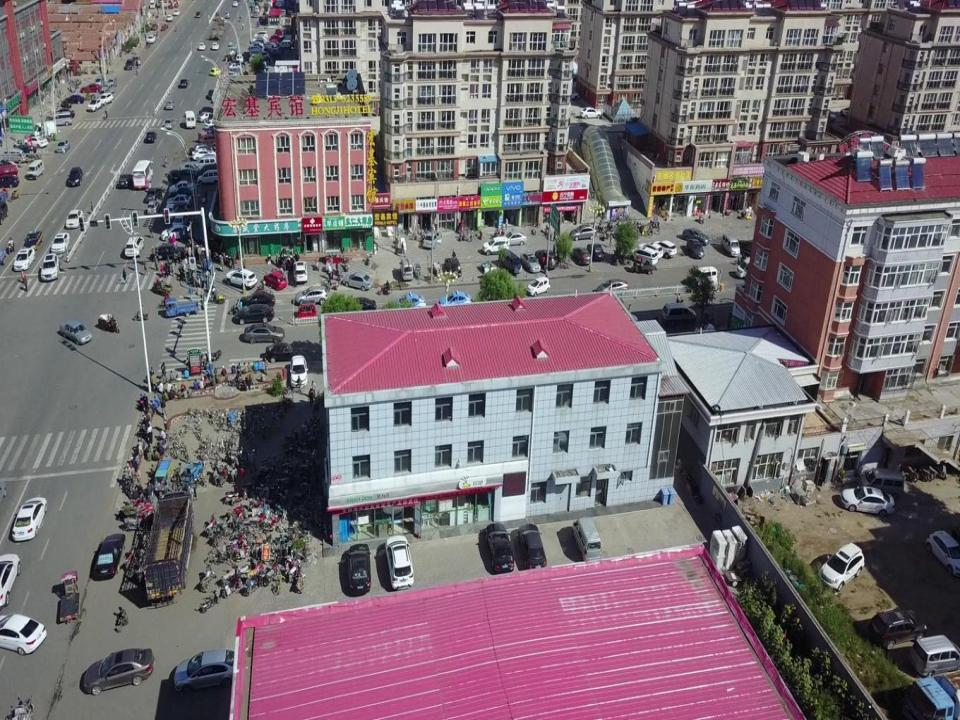bus: (131, 157, 154, 188)
car: (82, 648, 154, 696), (816, 537, 868, 597), (172, 646, 240, 689), (868, 604, 928, 650), (0, 612, 49, 656), (838, 483, 895, 518), (11, 490, 48, 542), (384, 532, 416, 590), (926, 526, 960, 579), (344, 540, 374, 597), (518, 519, 550, 572), (483, 520, 515, 572), (93, 532, 126, 580), (590, 276, 630, 302), (342, 295, 380, 322), (58, 318, 94, 346), (232, 303, 274, 326), (264, 341, 301, 365), (242, 322, 286, 342), (222, 265, 258, 289), (394, 290, 426, 316), (342, 272, 374, 295), (440, 290, 472, 312), (295, 285, 328, 306), (288, 353, 308, 387), (628, 246, 659, 267), (41, 253, 60, 284), (480, 236, 511, 255), (681, 226, 710, 246), (12, 248, 36, 272), (239, 290, 275, 306), (262, 268, 286, 292), (651, 238, 677, 260), (160, 224, 193, 241), (534, 247, 558, 270), (525, 274, 552, 294), (636, 241, 664, 260), (519, 251, 541, 275), (503, 230, 530, 248), (124, 235, 145, 258), (686, 236, 706, 260), (44, 110, 72, 127), (66, 165, 85, 189), (63, 208, 84, 229), (23, 229, 43, 251), (570, 245, 592, 265), (292, 260, 309, 285), (9, 142, 39, 156), (51, 232, 70, 254), (423, 229, 442, 250), (444, 255, 462, 277), (587, 240, 605, 262), (570, 224, 596, 239), (168, 180, 195, 194), (193, 148, 218, 163), (168, 186, 194, 200), (0, 162, 20, 180), (179, 161, 203, 176), (152, 242, 176, 257), (23, 134, 48, 148), (191, 142, 216, 155), (53, 136, 70, 154), (144, 199, 162, 216), (171, 212, 189, 229), (0, 174, 20, 189), (167, 194, 192, 206), (162, 202, 178, 220), (79, 82, 104, 93), (53, 108, 74, 120), (64, 93, 84, 105), (86, 97, 102, 112), (118, 172, 133, 188), (146, 186, 162, 200), (198, 105, 216, 116), (162, 114, 174, 130), (169, 166, 181, 182), (99, 93, 114, 105), (122, 56, 134, 70), (130, 52, 142, 66), (205, 118, 220, 129), (198, 111, 214, 121), (144, 131, 157, 143), (145, 33, 156, 45), (176, 77, 188, 88), (163, 99, 175, 110), (210, 66, 222, 76), (210, 40, 220, 51), (197, 40, 206, 51), (193, 8, 202, 18), (222, 10, 231, 19), (150, 23, 159, 30), (253, 9, 259, 19), (232, 0, 239, 8), (167, 14, 173, 23), (253, 4, 259, 13), (173, 8, 180, 15)
truck: (145, 487, 195, 609), (209, 14, 226, 43)
van: (905, 632, 959, 676), (857, 467, 903, 498), (572, 514, 601, 563), (690, 263, 720, 291), (736, 254, 766, 280), (499, 247, 522, 275), (1, 146, 27, 166), (28, 120, 56, 138), (721, 231, 741, 255), (26, 159, 45, 182), (194, 154, 218, 172), (400, 256, 415, 282), (198, 170, 220, 186), (196, 164, 221, 178), (199, 132, 218, 148), (181, 109, 196, 129), (102, 80, 116, 93), (106, 76, 117, 88), (94, 74, 105, 86), (98, 86, 109, 97), (275, 8, 286, 17), (148, 0, 155, 9)
